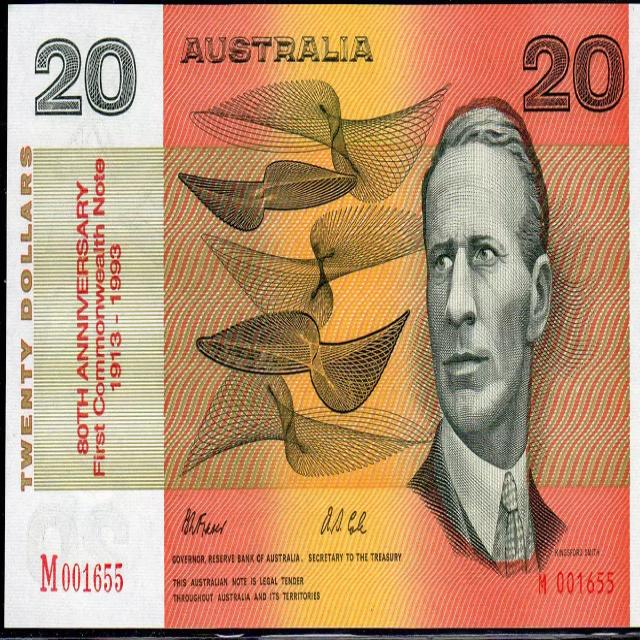banknote: (4, 2, 634, 633)
